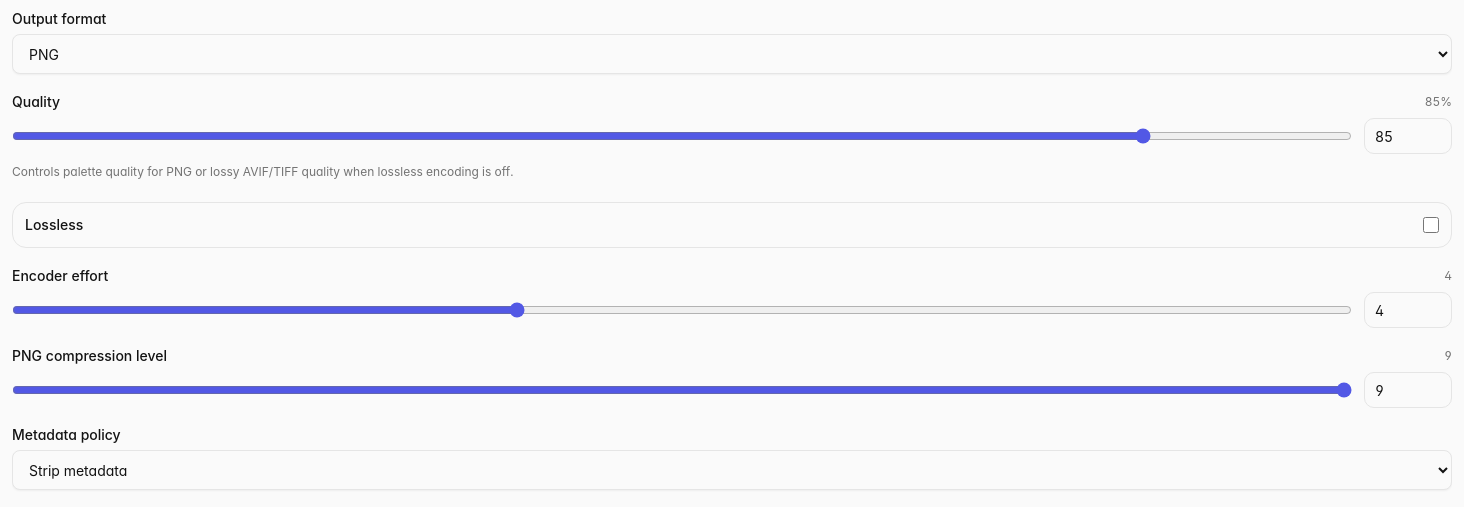
it: contextual encoder controls › contextualizes convert controls
Expected: the slider labelled "Quality" is shown, [12, 118, 1352, 154]
Expected: the checkbox labelled "Lossless" is shown, [1423, 217, 1439, 233]
Select "JPEG" in the dropdown labelled "Output format" at (732, 54), box [12, 34, 1452, 74]
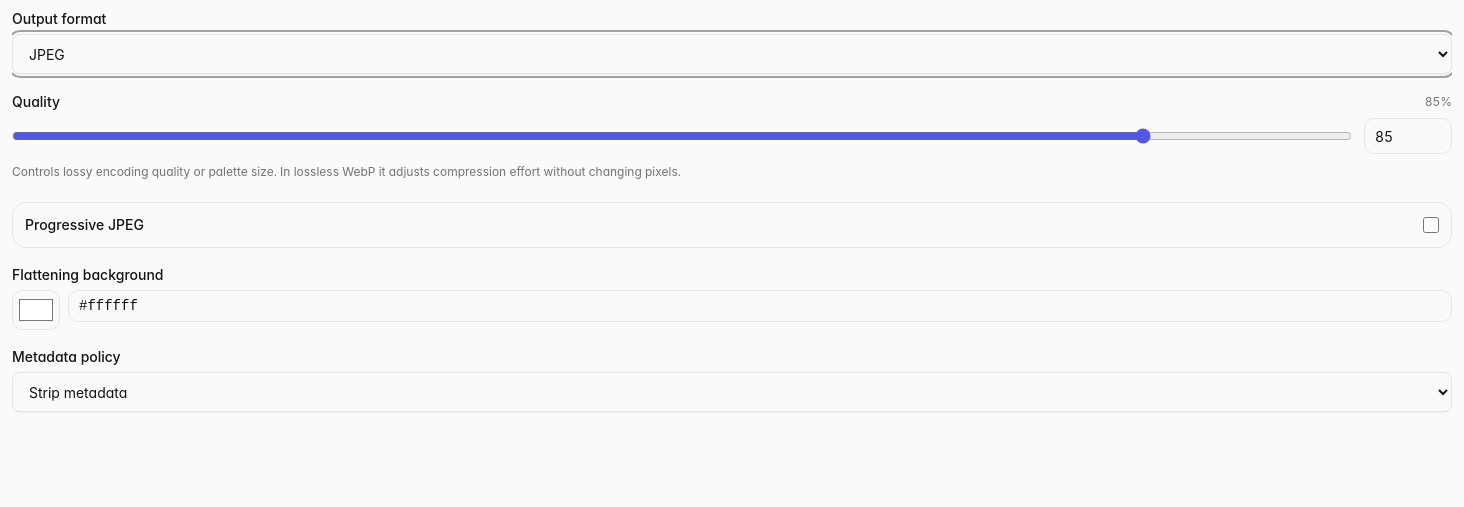
Expected: the checkbox labelled "Progressive JPEG" is shown, [1423, 217, 1439, 233]
Result: the label labelled "Encoder effort" is gone
